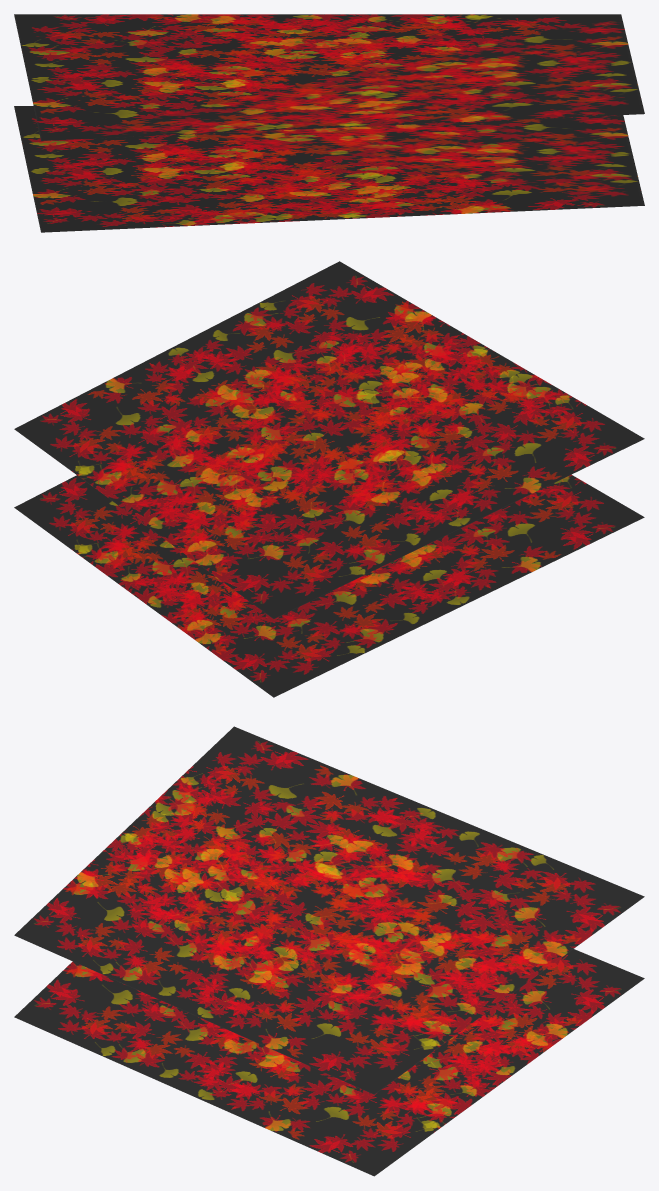
Rendered from OBJ_CourseAki_CurveFloor_3_5.fbx.
3 renders of one model, top to bottom at view 1: azimuth 30°, elevation 25°; view 2: azimuth 150°, elevation 25°; view 3: azimuth 270°, elevation 25°, orthographic. The views are drawn at different scales.
Parts seen in each view (by area): view 1: polySurface103, polySurface104; view 2: polySurface103, polySurface104; view 3: polySurface103, polySurface104.
Boxes of the visible parts, box(x1,y1,x2,y2) form: polySurface103: box(14, 14, 644, 140); polySurface104: box(14, 106, 644, 232); polySurface103: box(14, 261, 644, 618); polySurface104: box(14, 474, 644, 697); polySurface103: box(14, 726, 644, 1094); polySurface104: box(14, 949, 644, 1176).
Bounding box in the file's own units: 7.52 × 2 × 7.
Materials: 1 (1 with a texture image).
